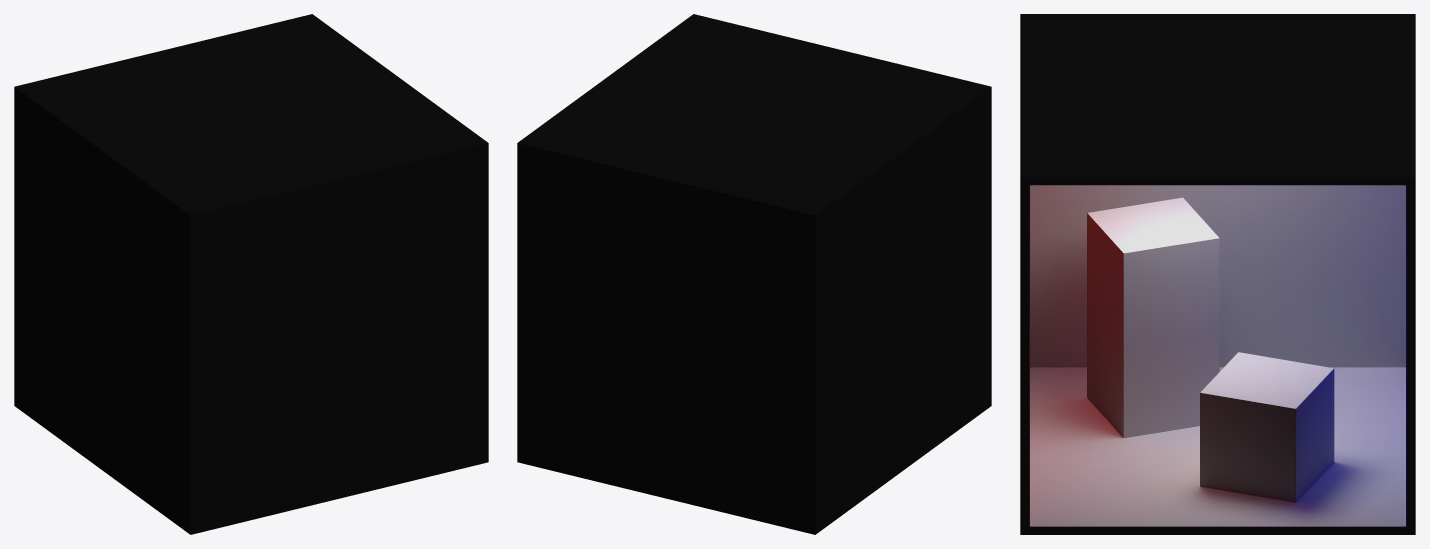
The model's file is cornellboxforp2.gltf.
The picture shows the model from 3 angles, left to right: view 1: azimuth 30°, elevation 25°; view 2: azimuth 150°, elevation 25°; view 3: azimuth 270°, elevation 25°; orthographic projection. The views are drawn at different scales.
Visible parts, largest first — view 1: Cube.002; view 2: Cube.002; view 3: Cube.002.
Part boxes in pixels (<box>): Cube.002: <box>14,14,488,534</box>; Cube.002: <box>517,14,991,534</box>; Cube.002: <box>1020,14,1415,534</box>.
Size of the model in its own units: 2.05 by 2.1 by 2.1.
1 material, 1 textured.
